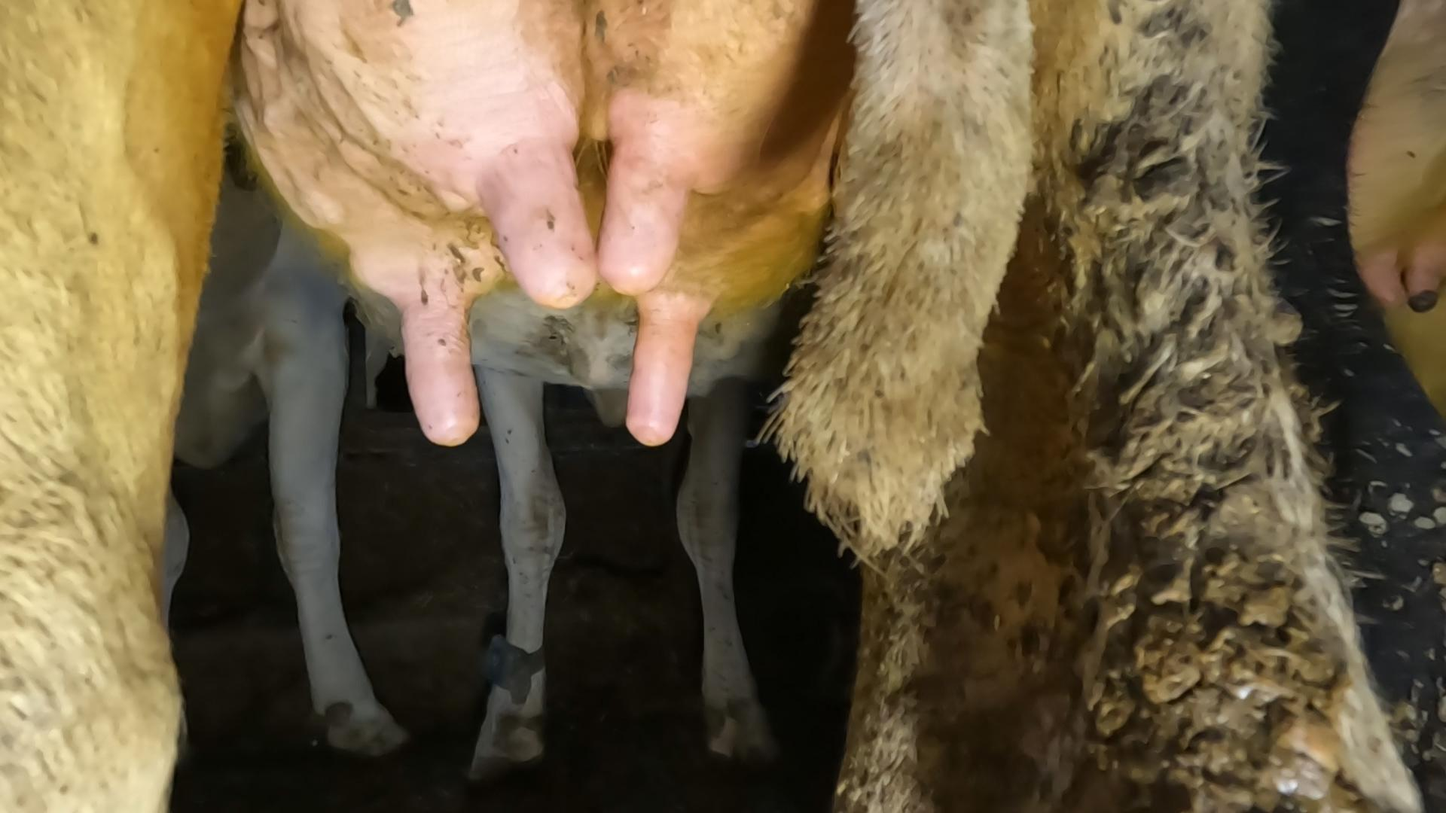Zitze: (566, 126, 693, 311), (467, 158, 604, 327), (601, 295, 711, 452), (388, 297, 490, 447)
